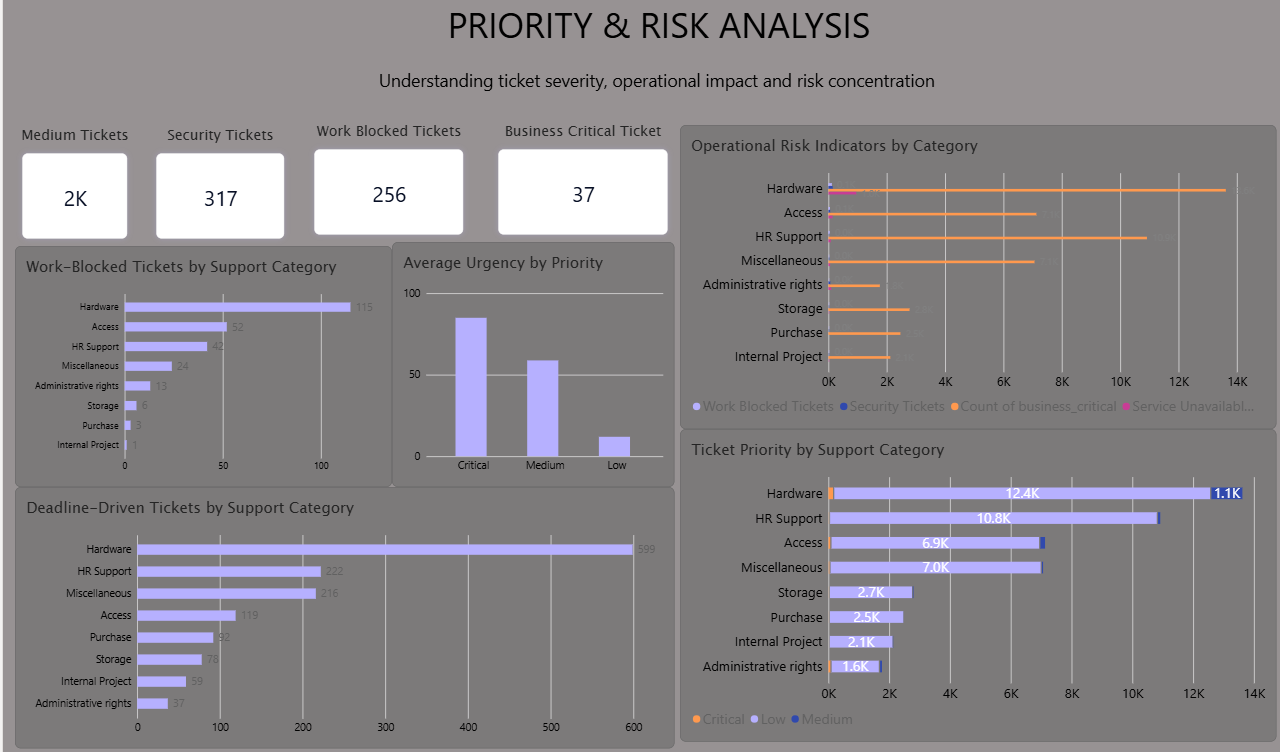

The dashboard page shown, as its layout file describes it:
{"tool":"powerbi","page":{"name":"Priority & Risk Analysis","canvas":[1950,1150],"ordinal":1},"visuals":[{"type":"cardVisual","title":"Medium Tickets","fields":{"Data":["it_support_analytics vw_ticket_summary.Medium Tickets"]},"box":[18.3,190.3,182.7,184.2],"z":0},{"type":"cardVisual","title":"Security Tickets","fields":{"Data":["it_support_analytics vw_ticket_summary.Security Tickets"]},"box":[222.2,190.3,217.7,184.2],"z":1000},{"type":"cardVisual","title":"Work Blocked Tickets","fields":{"Data":["it_support_analytics vw_ticket_summary.Work Blocked Tickets"]},"box":[462.8,184.2,249.6,184.2],"z":2000},{"type":"cardVisual","title":"Business Critical Ticket","fields":{"Data":["it_support_analytics vw_category_kpis.Business-Critical Tickets"]},"box":[742.9,184.2,280.1,184.2],"z":3000},{"type":"barChart","title":"Ticket Priority by Support Category","fields":{"Y":["it_support_analytics vw_ticket_summary.Total Tickets"],"Category":["it_support_analytics vw_ticket_summary.category_name"],"Series":["it_support_analytics vw_ticket_summary.priority_name"]},"box":[1031,652.9,907.8,475.9],"z":4000},{"type":"clusteredColumnChart","title":"Average Urgency by Priority","fields":{"Category":["it_support_analytics vw_ticket_summary.priority_name"],"Y":["it_support_analytics vw_ticket_summary.Average Urgency"]},"box":[592,368.7,430.2,373.2],"z":5000},{"type":"clusteredBarChart","title":"Operational Risk Indicators by Category","fields":{"Category":["it_support_analytics vw_ticket_summary.category_name"],"Y":["it_support_analytics vw_ticket_summary.Work Blocked Tickets","it_support_analytics vw_ticket_summary.Security Tickets","CountNonNull(it_support_analytics vw_ticket_summary.business_critical)","it_support_analytics vw_ticket_summary.Service Unavailable Tickets"]},"box":[1031,189.8,907.8,463.1],"z":6000},{"type":"clusteredBarChart","title":"Deadline-Driven Tickets by Support Category","fields":{"Category":["it_support_analytics vw_ticket_summary.category_name"],"Y":["it_support_analytics vw_ticket_summary.Deadline Tickets"]},"box":[18.4,740.7,1004.1,398],"z":7000},{"type":"clusteredBarChart","title":"Work-Blocked Tickets by Support Category","fields":{"Category":["it_support_analytics vw_ticket_summary.category_name"],"Y":["it_support_analytics vw_ticket_summary.Work Blocked Tickets"]},"box":[18.4,373.9,573.6,366.8],"z":8000},{"type":"textbox","box":[520.1,0,956.3,167.9],"z":9000}]}

Visuals, with their boxes in screenshot pixels (x1, y1, x2, y2), scaled from the page's 1950x1150 canvas onto the 1280x752 screenshot:
"Medium Tickets" cardVisual: <box>12,124,132,245</box>
"Security Tickets" cardVisual: <box>146,124,289,245</box>
"Work Blocked Tickets" cardVisual: <box>304,120,468,241</box>
"Business Critical Ticket" cardVisual: <box>488,120,672,241</box>
"Ticket Priority by Support Category" barChart: <box>677,427,1273,738</box>
"Average Urgency by Priority" clusteredColumnChart: <box>389,241,671,485</box>
"Operational Risk Indicators by Category" clusteredBarChart: <box>677,124,1273,427</box>
"Deadline-Driven Tickets by Support Category" clusteredBarChart: <box>12,484,671,745</box>
"Work-Blocked Tickets by Support Category" clusteredBarChart: <box>12,244,389,484</box>
textbox: <box>341,0,969,110</box>
